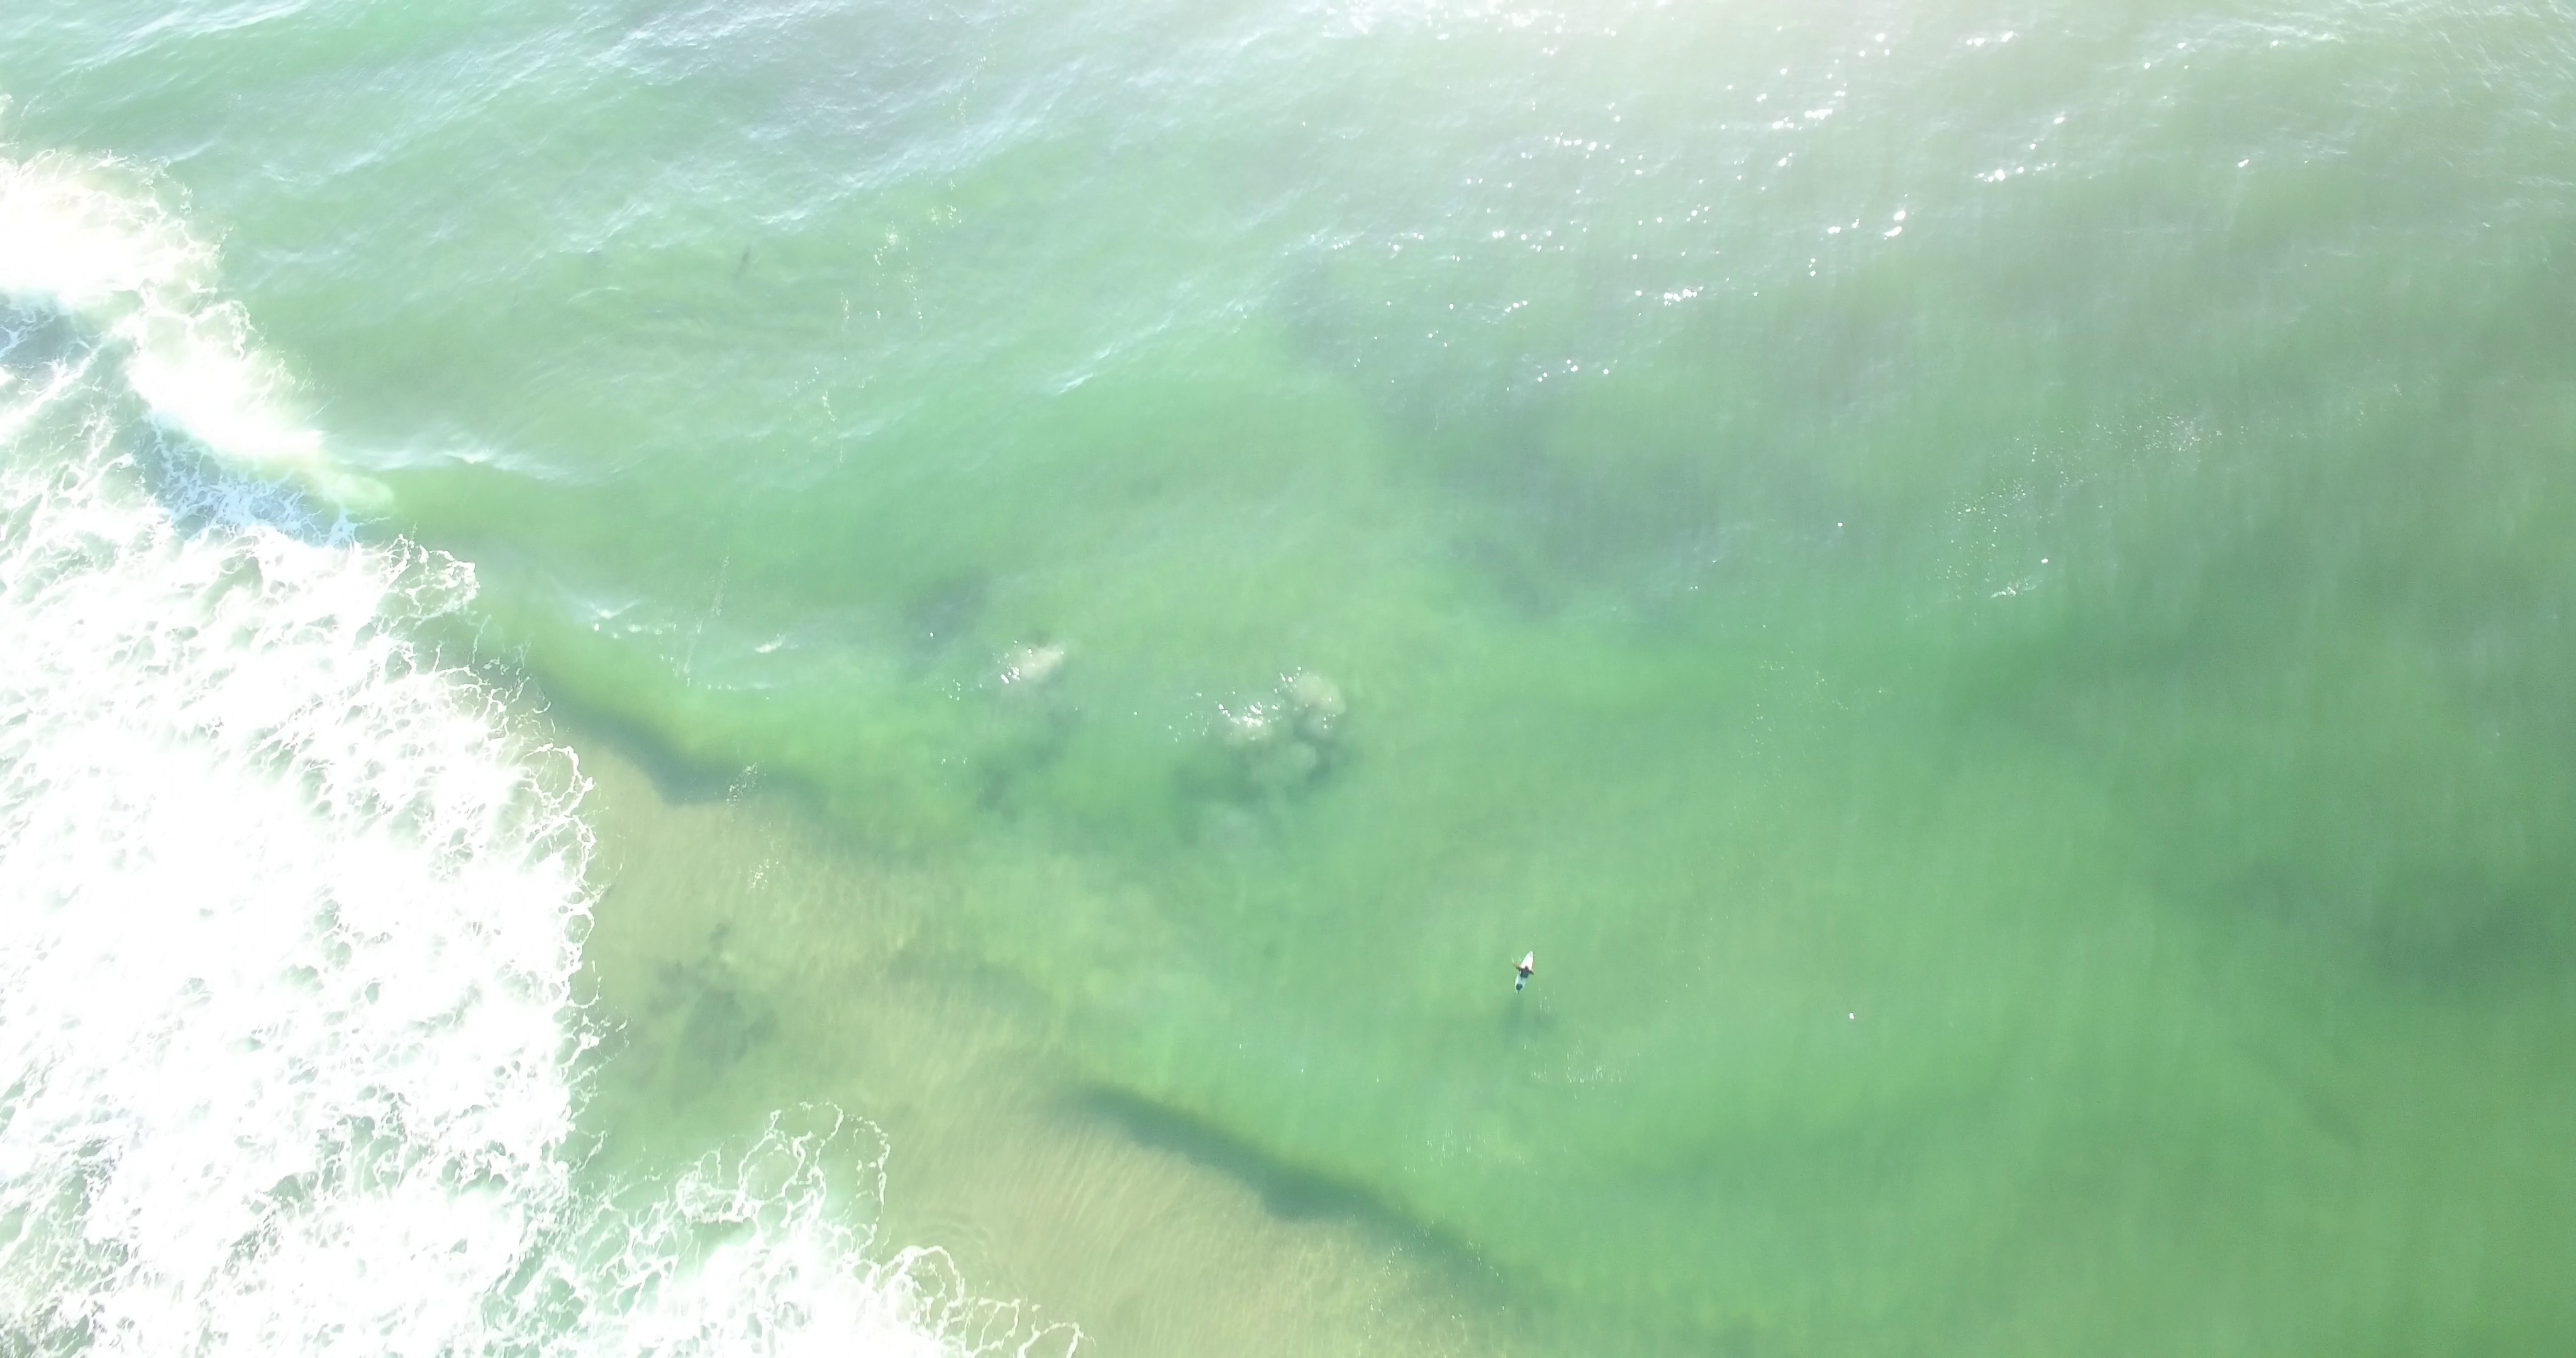dolphin: (729, 239, 755, 283)
surfer: (1511, 947, 1535, 993)
